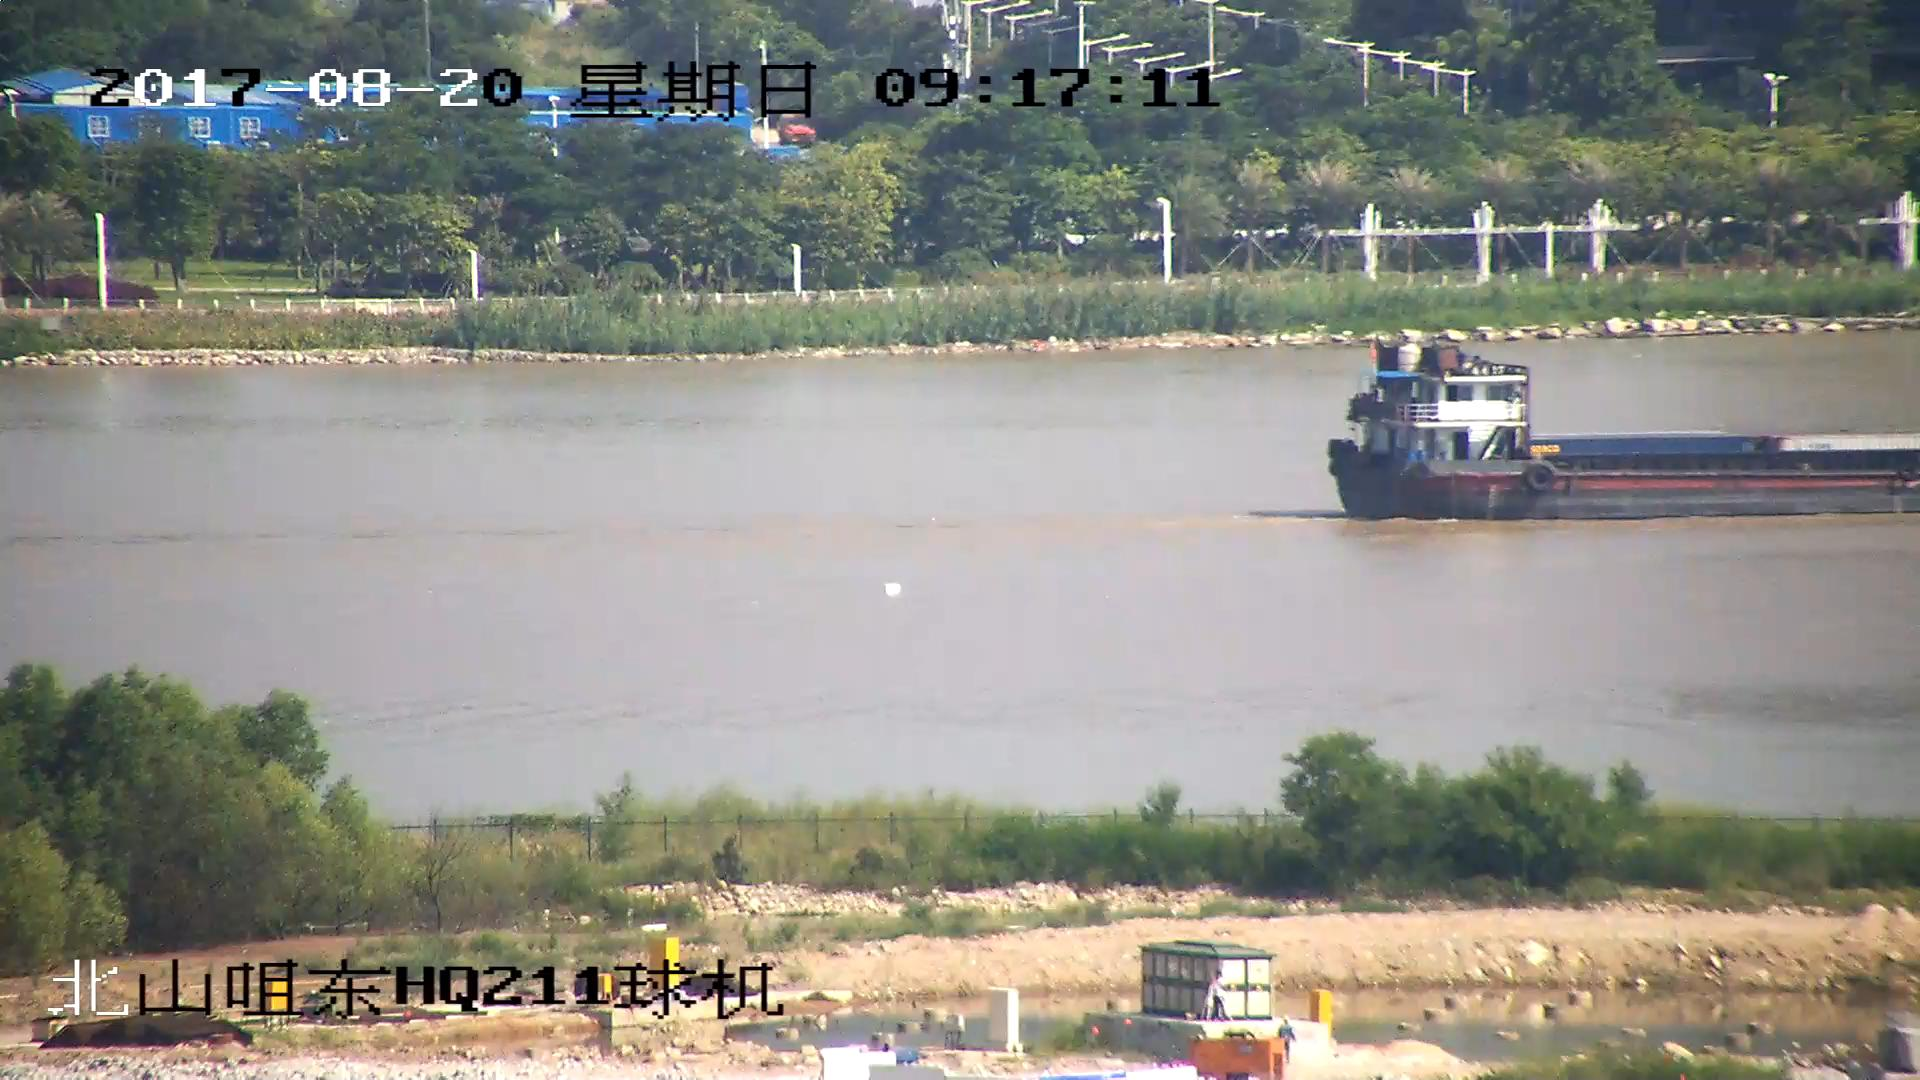general cargo ship: (1331, 342, 1920, 520)
